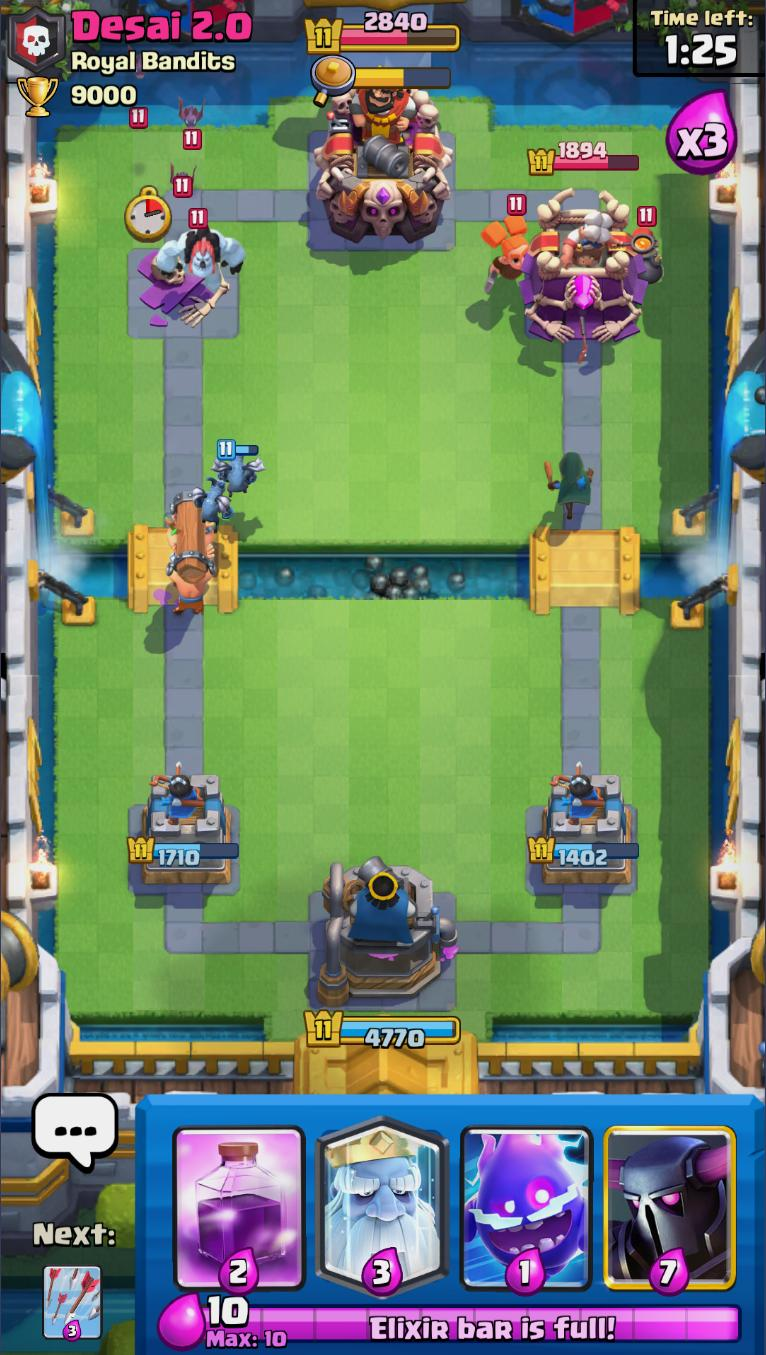ArrowNext: (41, 1264, 103, 1315)
Bat: (175, 94, 210, 150), (167, 160, 201, 197)
Berserker: (479, 195, 534, 291)
Bomber: (631, 208, 668, 289)
Chef: (553, 198, 616, 277)
ElectroSpiritDeck: (455, 1096, 598, 1295)
Elixir: (204, 1293, 747, 1350)
EnemyTower: (517, 186, 649, 348)
EnemyTowerBrocken: (122, 240, 243, 340)
IceGolem: (156, 210, 247, 291)
KingTower: (312, 82, 455, 245)
KingTowerHP: (303, 9, 463, 56)
MyBandit: (542, 450, 596, 521)
MyBattleRam: (162, 490, 219, 617)
MyKingHP: (300, 1006, 462, 1051)
MyKingTower: (316, 851, 462, 1009)
MyMinion: (212, 440, 263, 496), (188, 474, 236, 528)
MyPrincessTower: (125, 770, 242, 892), (528, 775, 639, 894)
MyPrincessTowerHP: (528, 833, 642, 869), (128, 834, 244, 868)
PekkaDeck: (601, 1096, 741, 1296)
RageDeck: (166, 1095, 313, 1287)
RoyaleGhostDeck: (308, 1098, 451, 1296)
TowerPrincessHP: (527, 140, 643, 179)
